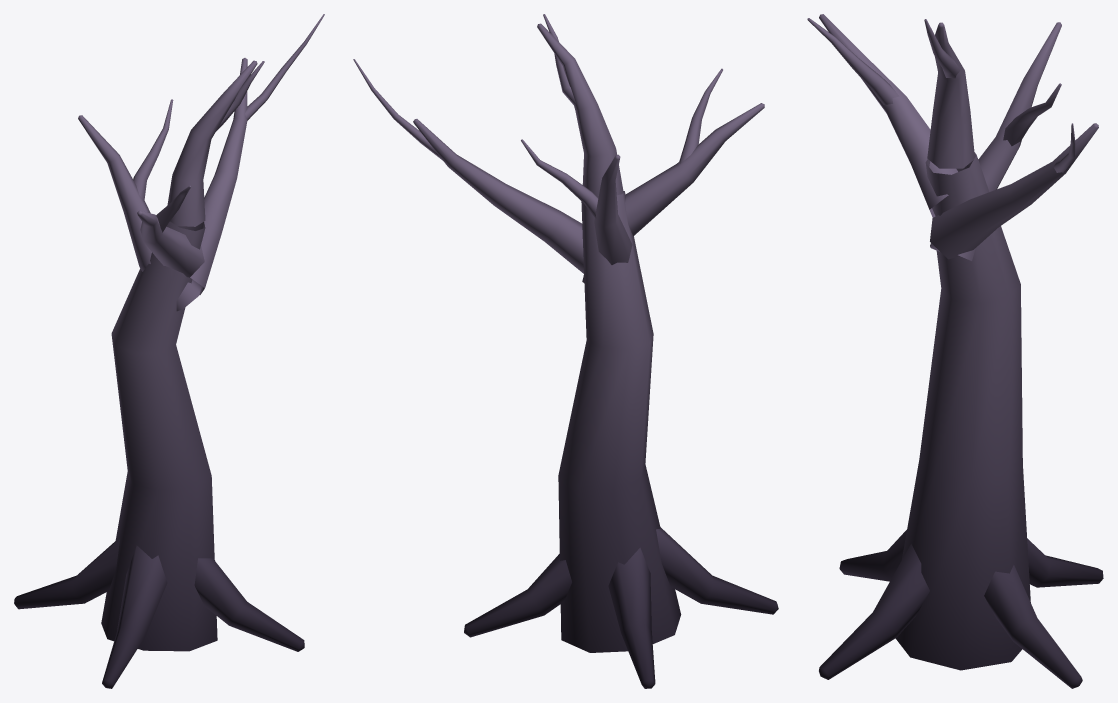
Rendered from deadtree.glb.
3 views of the same model, side by side, from view 1: azimuth 30°, elevation 25°; view 2: azimuth 150°, elevation 25°; view 3: azimuth 270°, elevation 25° (orthographic). The views are drawn at different scales.
Visible parts, largest first — view 1: deadtree_body; view 2: deadtree_body; view 3: deadtree_body.
Boxes of the visible parts, x1,y1,x2,y2 form: deadtree_body: [14, 14, 324, 688]; deadtree_body: [353, 14, 778, 688]; deadtree_body: [807, 14, 1103, 688].
Bounding box in the file's own units: 2.18 × 3.73 × 1.49.
